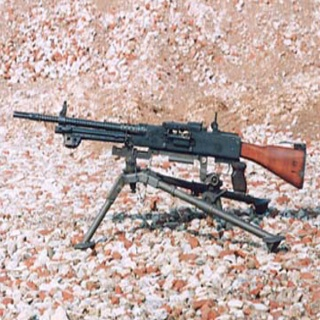rifle: (11, 98, 309, 192)
